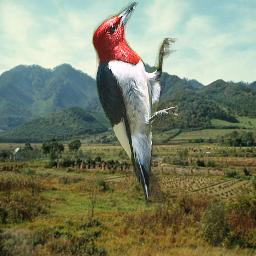Woodpecker: (91, 2, 178, 207)
